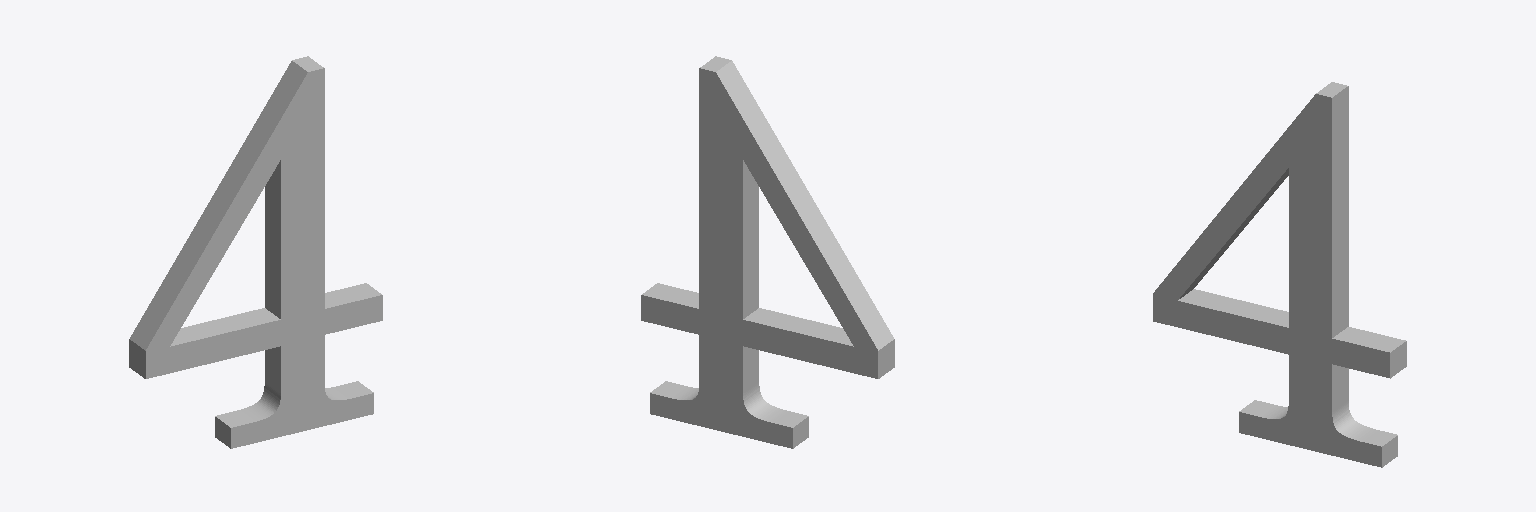
The picture shows the model from 3 angles: view 1: azimuth 30°, elevation 25°; view 2: azimuth 150°, elevation 25°; view 3: azimuth 330°, elevation 25°; orthographic projection.
Parts seen in each view (by area): view 1: mmGroup0.002; view 2: mmGroup0.002; view 3: mmGroup0.002.
Boxes of the visible parts, box(x1,y1,x2,y2) form: mmGroup0.002: box(129, 56, 382, 448); mmGroup0.002: box(641, 56, 894, 448); mmGroup0.002: box(1153, 82, 1406, 467).
Bounding box in the file's own units: 5.04 × 7.28 × 0.6.